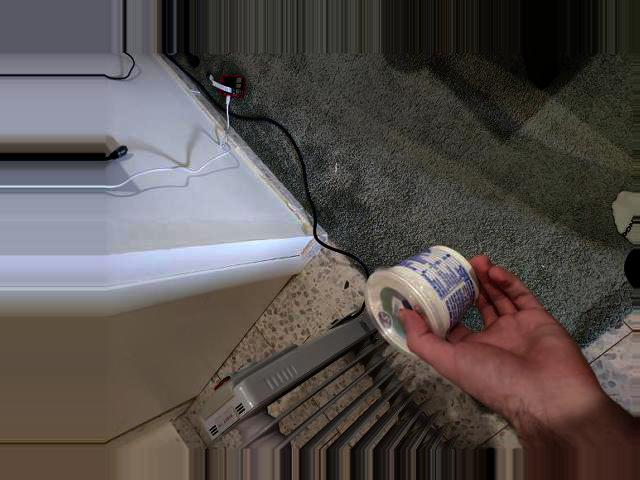cotage: (368, 244, 486, 349)
